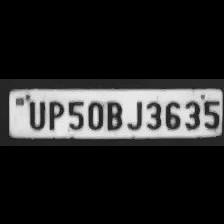0: (84, 96, 104, 130)
3: (142, 96, 162, 128), (182, 96, 202, 128)
5: (63, 96, 85, 130), (200, 95, 220, 129)
6: (161, 97, 181, 129)
B: (104, 96, 124, 130)
J: (124, 95, 144, 129)
P: (44, 97, 64, 129)
U: (24, 96, 46, 128)
